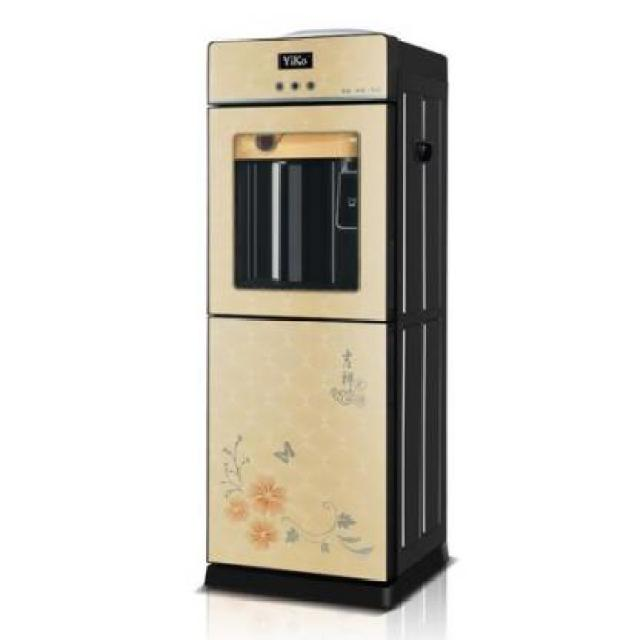cooler: (201, 22, 454, 620)
